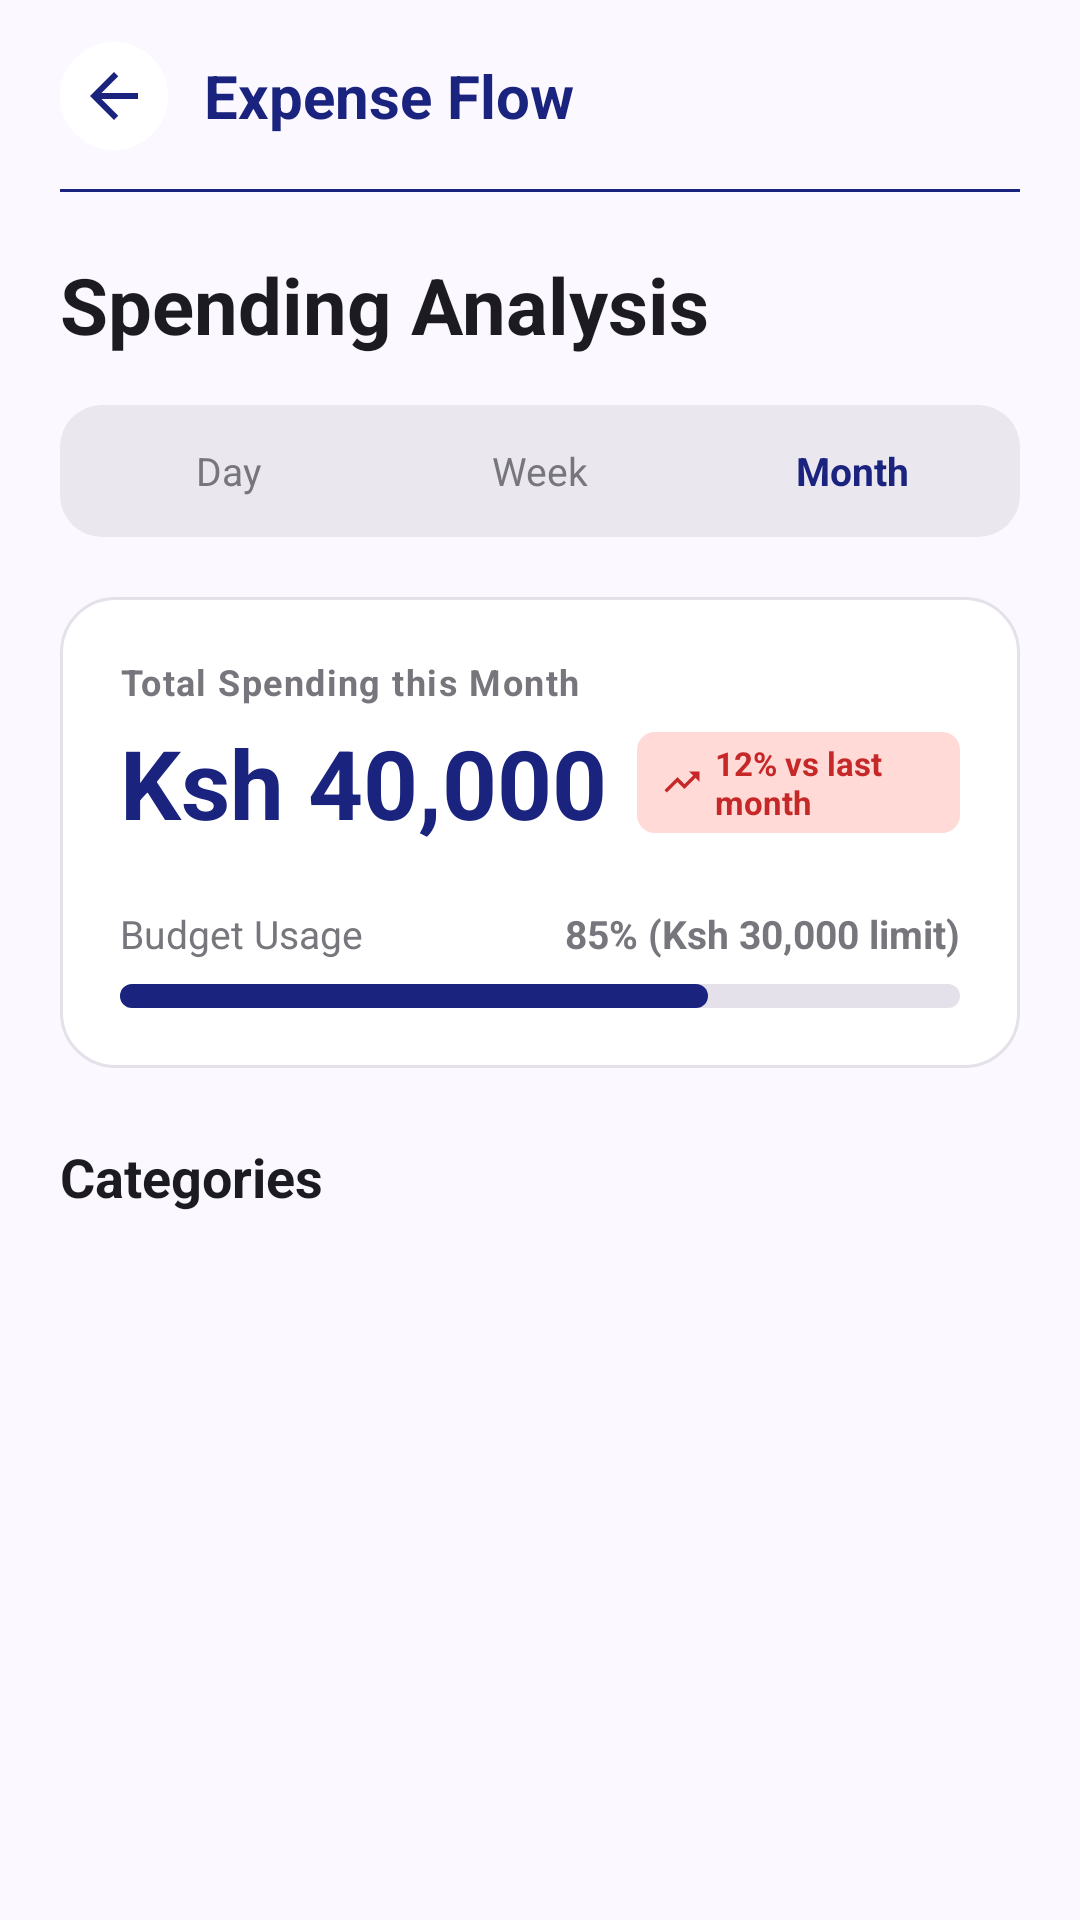

Icon bounding boxes for this 1080 × 1920 phone screenshot, format (x1, y1, x2, y2):
back: (90, 72, 138, 120)
trending up: (664, 771, 700, 793)
